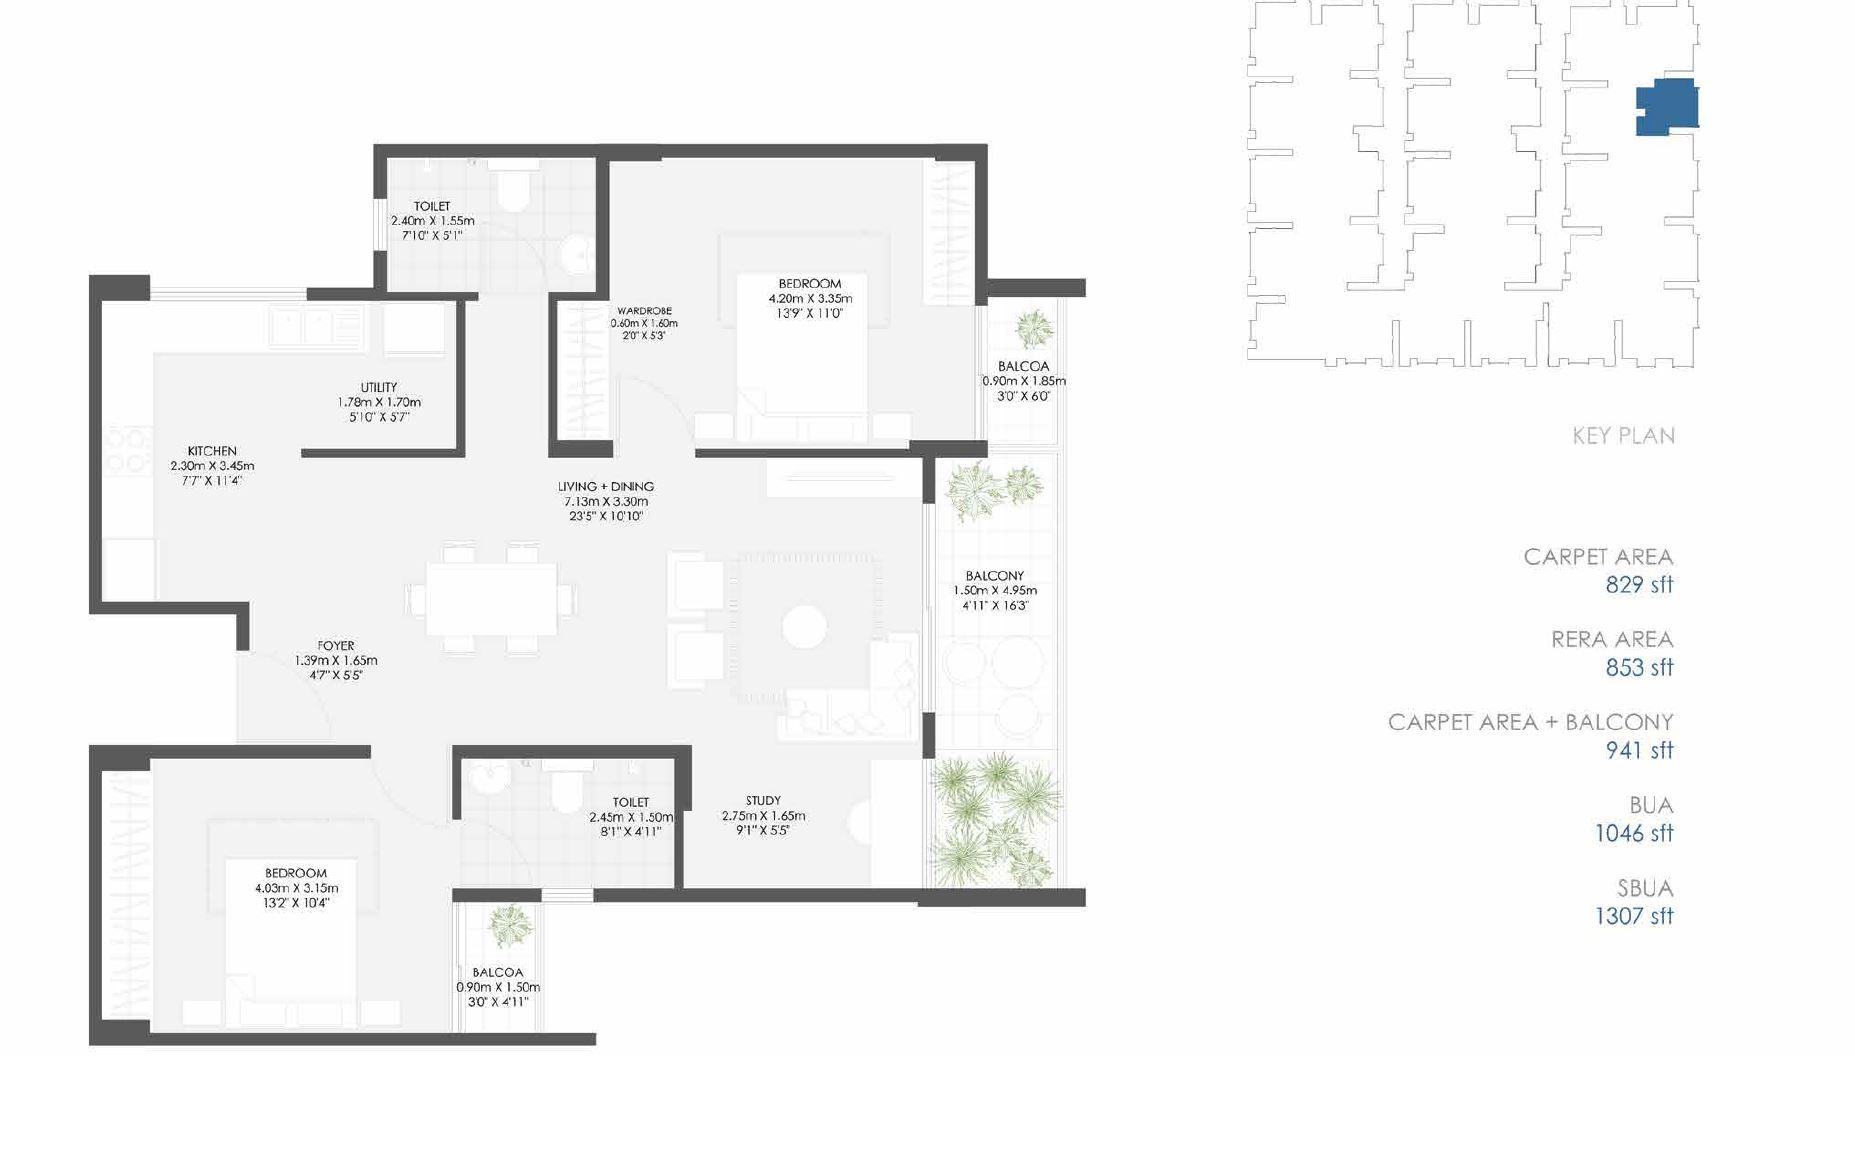Balcony: (929, 454, 1065, 896)
Bed: (225, 858, 353, 1032), (736, 275, 867, 443)
Bedroom: (614, 156, 976, 448), (96, 756, 450, 1036)
Dining Room: (366, 458, 645, 750)
Dining table: (398, 537, 579, 660)
Foyer: (244, 607, 385, 745)
Kitchen: (106, 300, 295, 601)
Living Room: (639, 457, 921, 743)
Sofa: (778, 690, 915, 738), (868, 630, 922, 739), (668, 626, 727, 690), (666, 555, 726, 613)
Wardrobe: (100, 772, 148, 1018), (919, 159, 973, 308), (559, 298, 610, 443)
balcoa: (985, 298, 1067, 443), (454, 902, 542, 1032)
commode: (547, 770, 586, 819), (493, 175, 537, 211)
door: (238, 653, 342, 753), (910, 501, 948, 718), (615, 368, 695, 455), (468, 224, 552, 295), (454, 816, 530, 890), (972, 302, 992, 447)
fridge: (104, 539, 159, 603)
kitchen-slab: (106, 296, 372, 357), (104, 300, 155, 537)
sink: (268, 304, 363, 353), (561, 237, 594, 286), (471, 765, 516, 793)
stove: (104, 423, 155, 478)
study: (682, 749, 923, 888)
toilet: (452, 758, 674, 889), (382, 158, 596, 292)
tv: (775, 462, 905, 501)
utility: (295, 300, 454, 451)
washing-machine: (381, 300, 446, 361)
